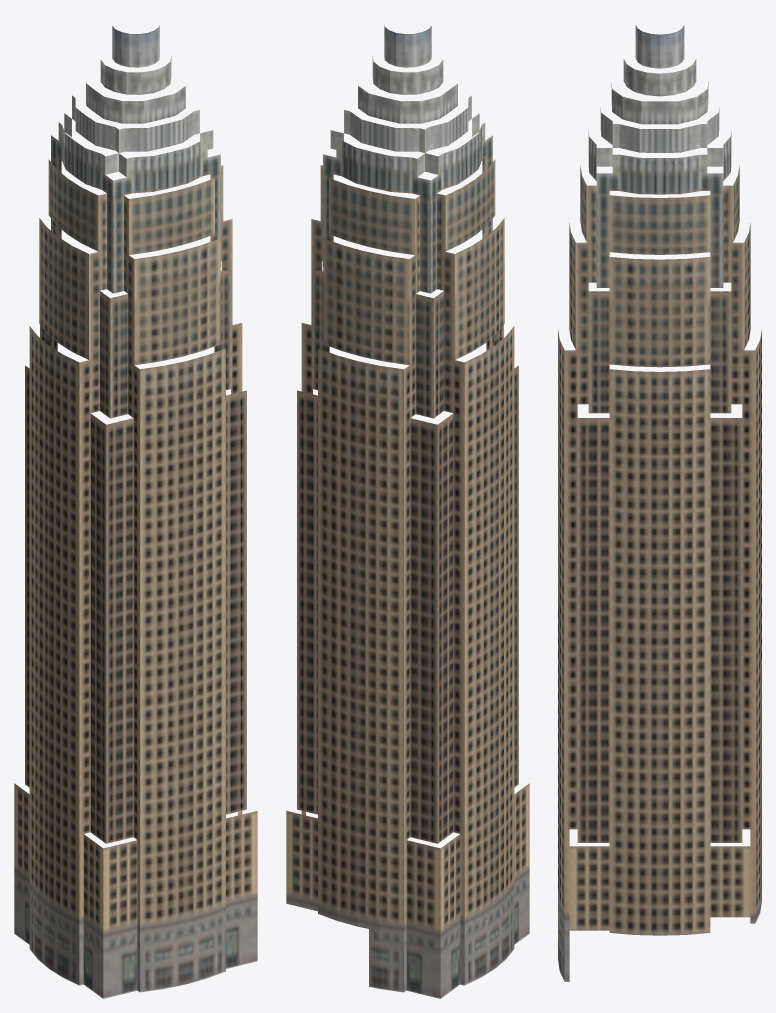
File: towers_a_17_b.glb
3 views of the same model, side by side, from view 1: azimuth 30°, elevation 25°; view 2: azimuth 150°, elevation 25°; view 3: azimuth 270°, elevation 25° (orthographic).
Visible parts, largest first — view 1: towers_a_17; view 2: towers_a_17; view 3: towers_a_17.
Part boxes in pixels (x1=…): towers_a_17: x1=14, y1=25, x2=257, y2=998; towers_a_17: x1=286, y1=25, x2=529, y2=998; towers_a_17: x1=558, y1=25, x2=761, y2=981.
Size of the model in its own units: 1.18 by 6 by 1.18.
1 material, 1 textured.
